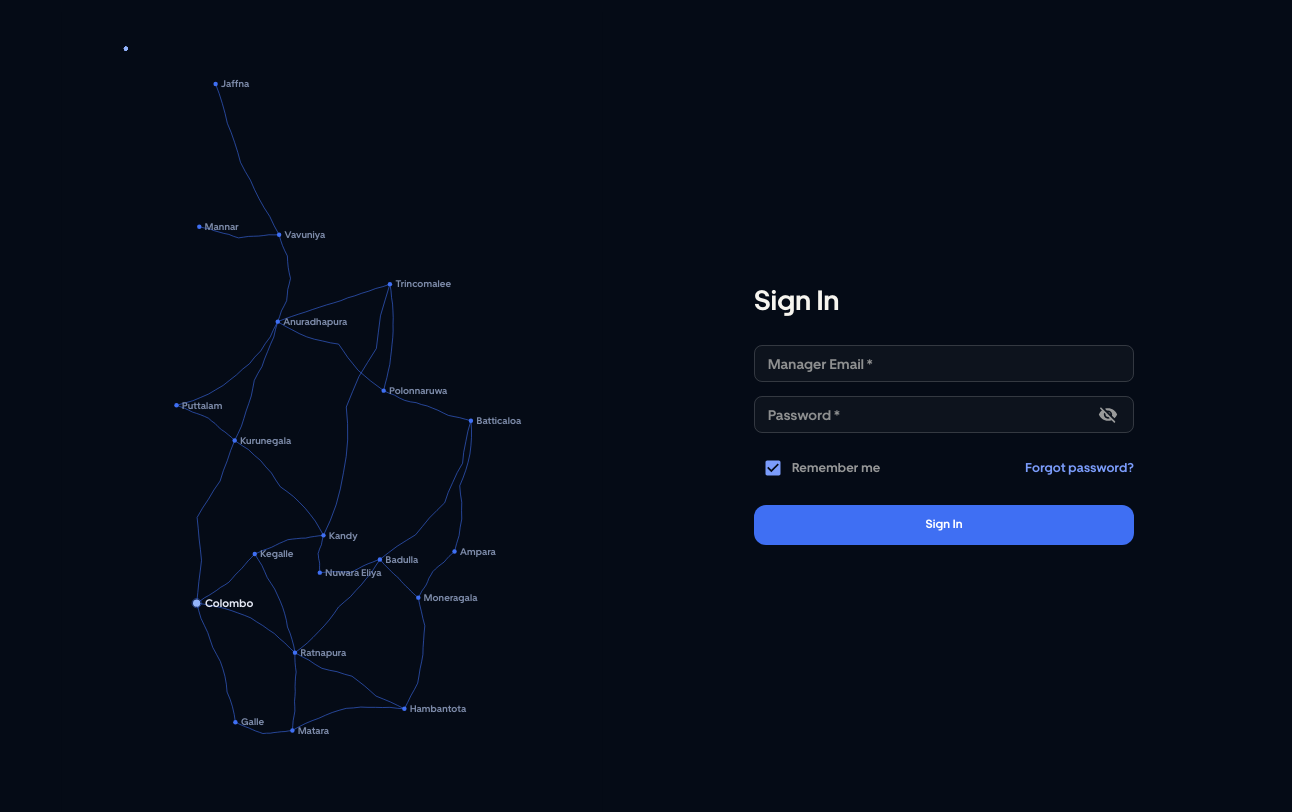
Scenario: App — LoginShell › shows the backend error message when login itself fails
Type "nobody@trackme.com" into the field labelled "Manager Email *" at (944, 364), box [754, 345, 1134, 382]
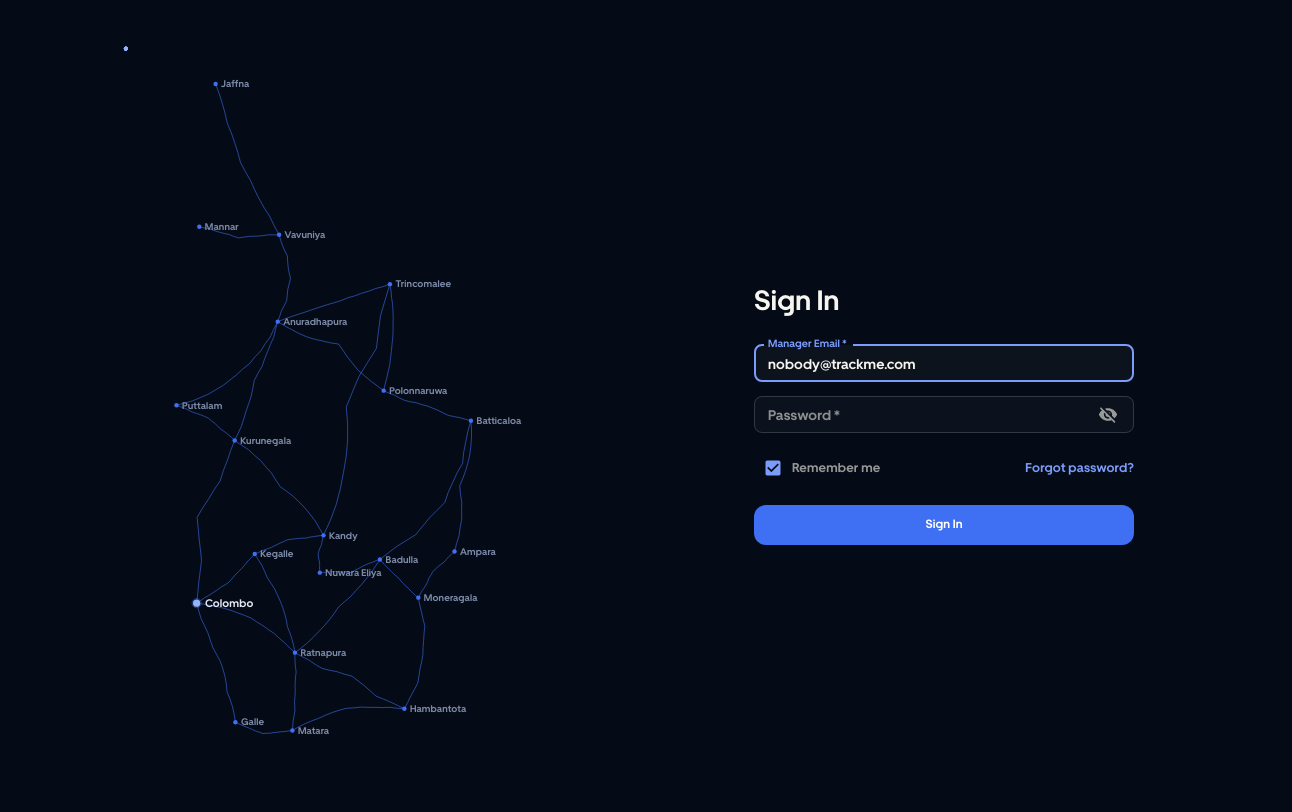
Type "wrong" into the password field labelled "Password *" at (920, 415), box [754, 396, 1085, 433]
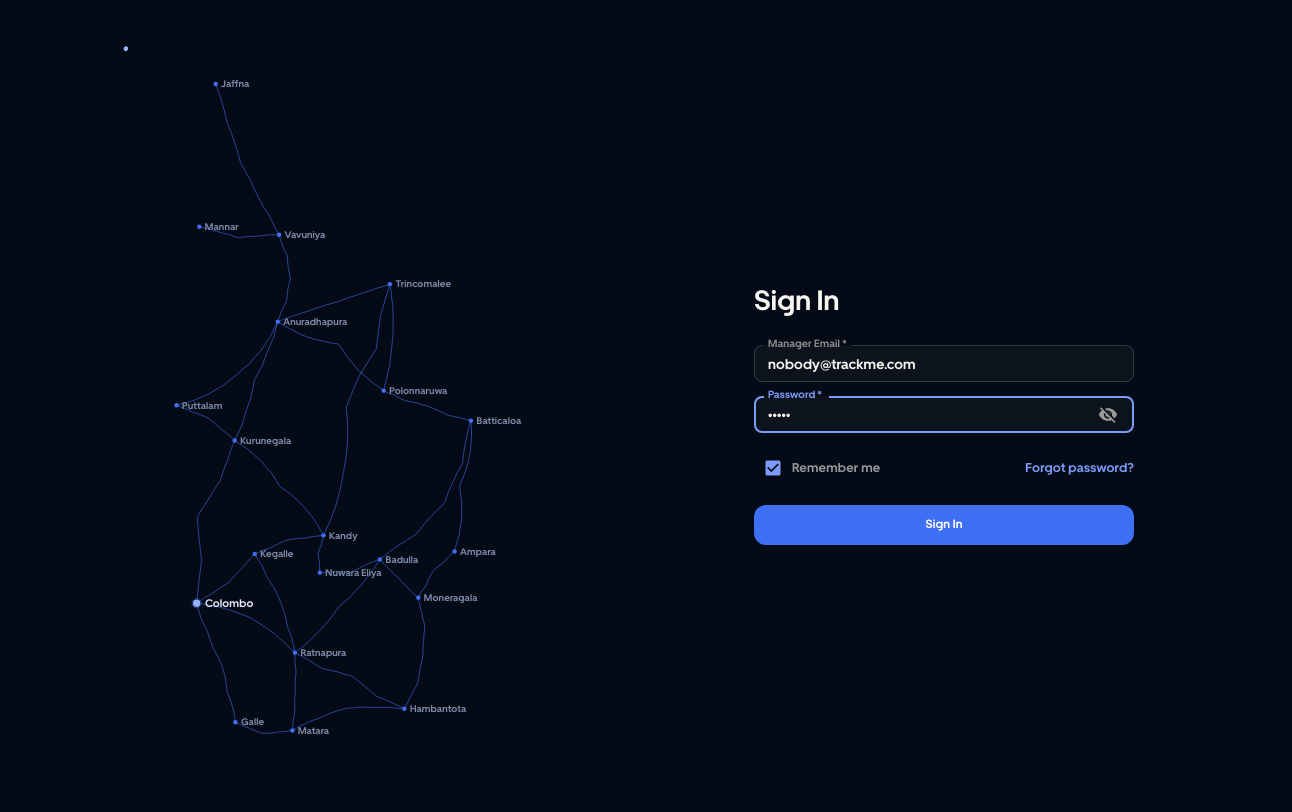
Click the button "Sign In" at (944, 525), box [754, 505, 1134, 545]
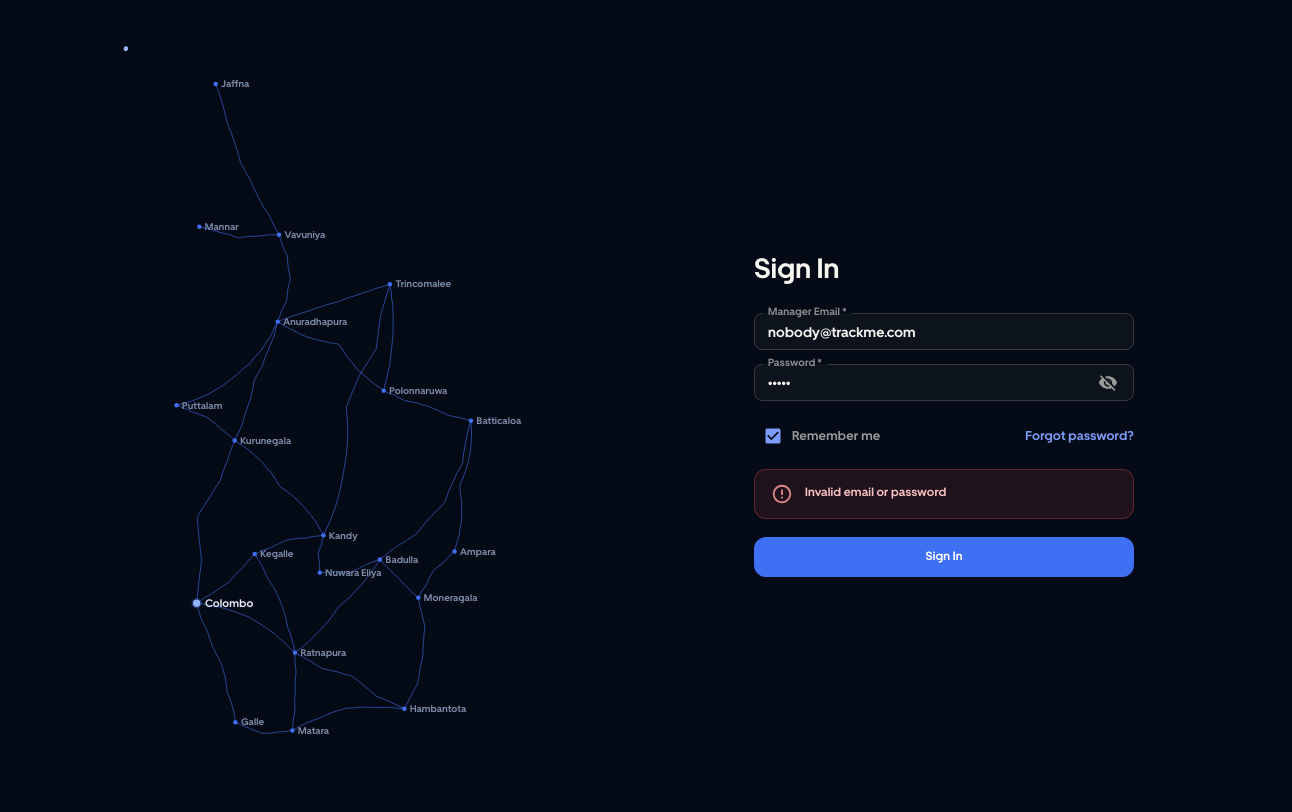
Now the text "Invalid email or password" is shown, box [805, 485, 946, 499]
